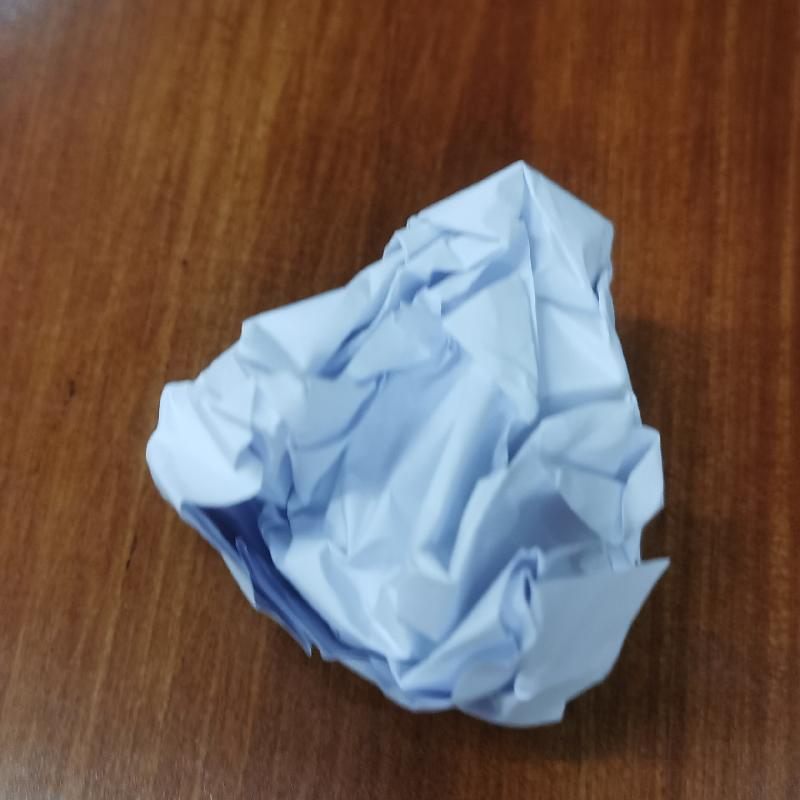spitball: (142, 154, 673, 735)
